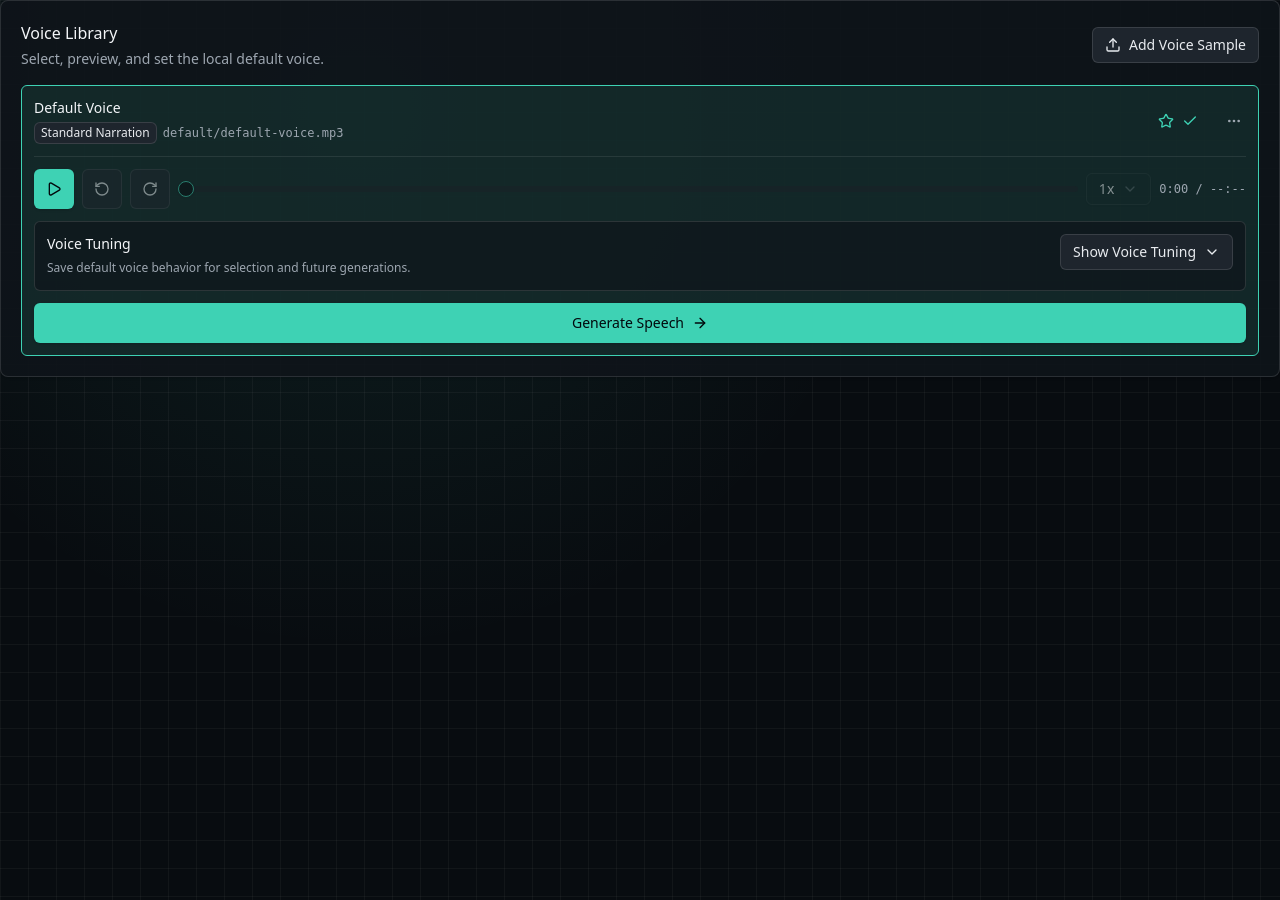
Scenario: VoiceLibraryPanel voice tuning › disables user preset mutations while presets are loading
Click the button "Show Voice Tuning" at (1147, 252), box [1060, 234, 1233, 270]
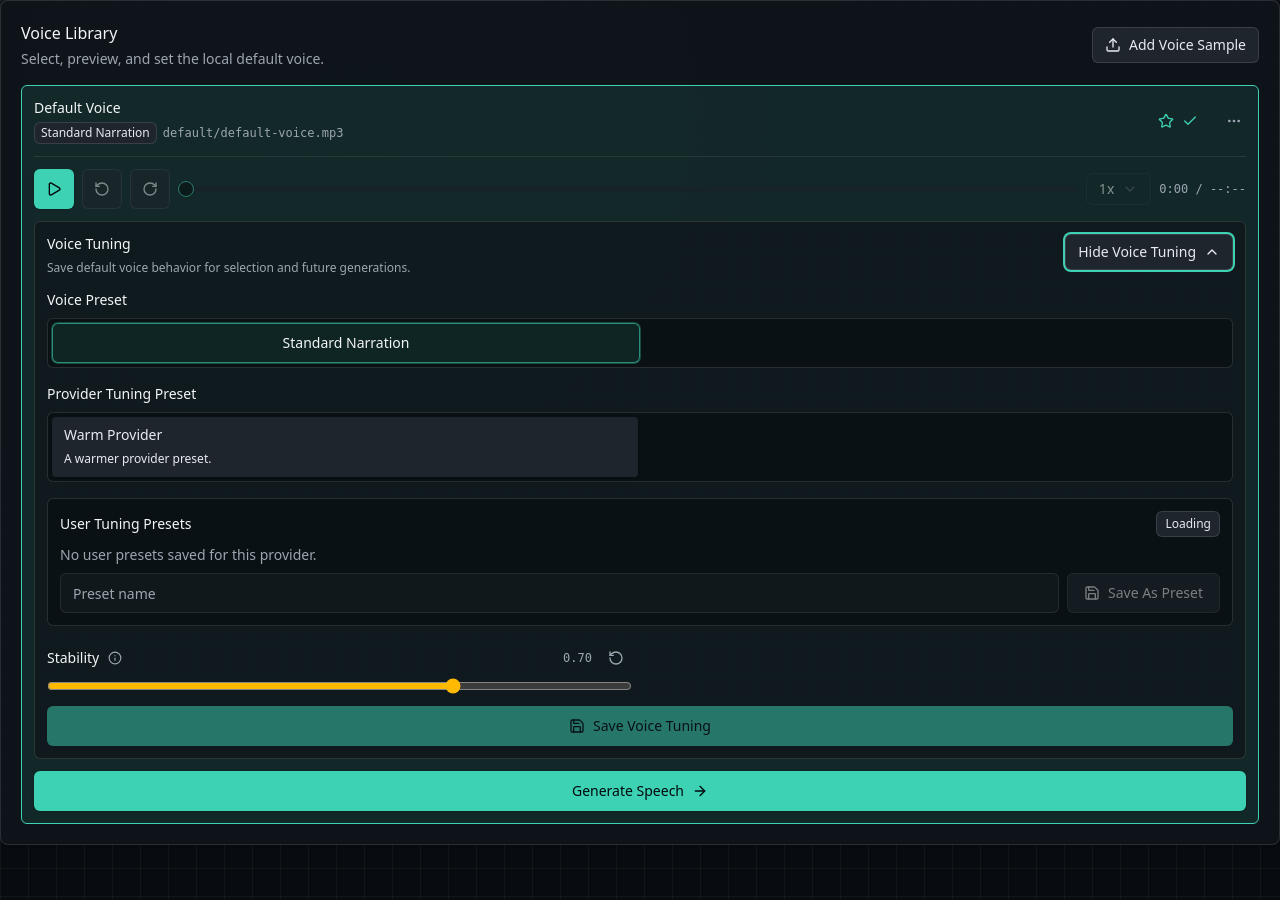
Expected: the field with placeholder "Preset name" is disabled, [60, 573, 1059, 613]
Expected: the button "Save As Preset" is disabled, [1067, 573, 1220, 613]
